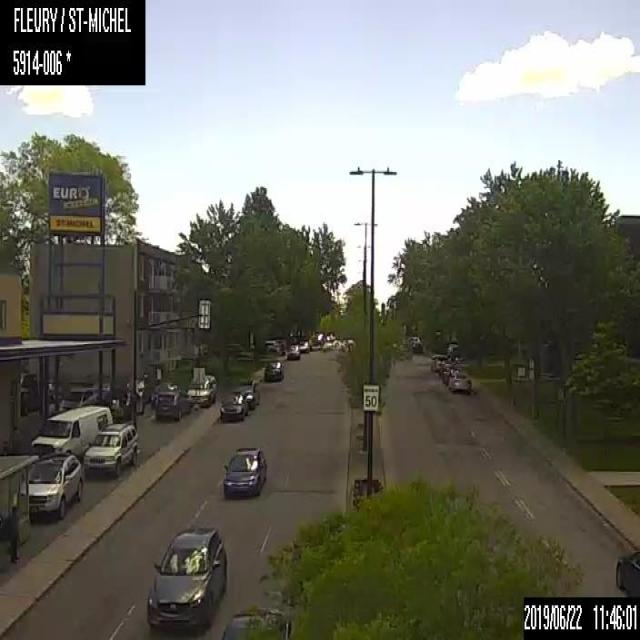vehicle: (146, 528, 227, 639), (29, 403, 113, 457), (18, 453, 83, 519), (82, 421, 140, 477), (217, 604, 292, 638), (222, 448, 265, 499), (153, 387, 193, 421), (613, 548, 639, 596), (58, 384, 102, 410), (186, 373, 216, 408), (217, 392, 245, 422), (234, 384, 260, 410), (264, 359, 286, 383), (449, 373, 472, 393), (428, 353, 447, 372), (442, 366, 459, 384), (286, 344, 300, 362), (297, 337, 309, 351), (263, 340, 277, 350)
